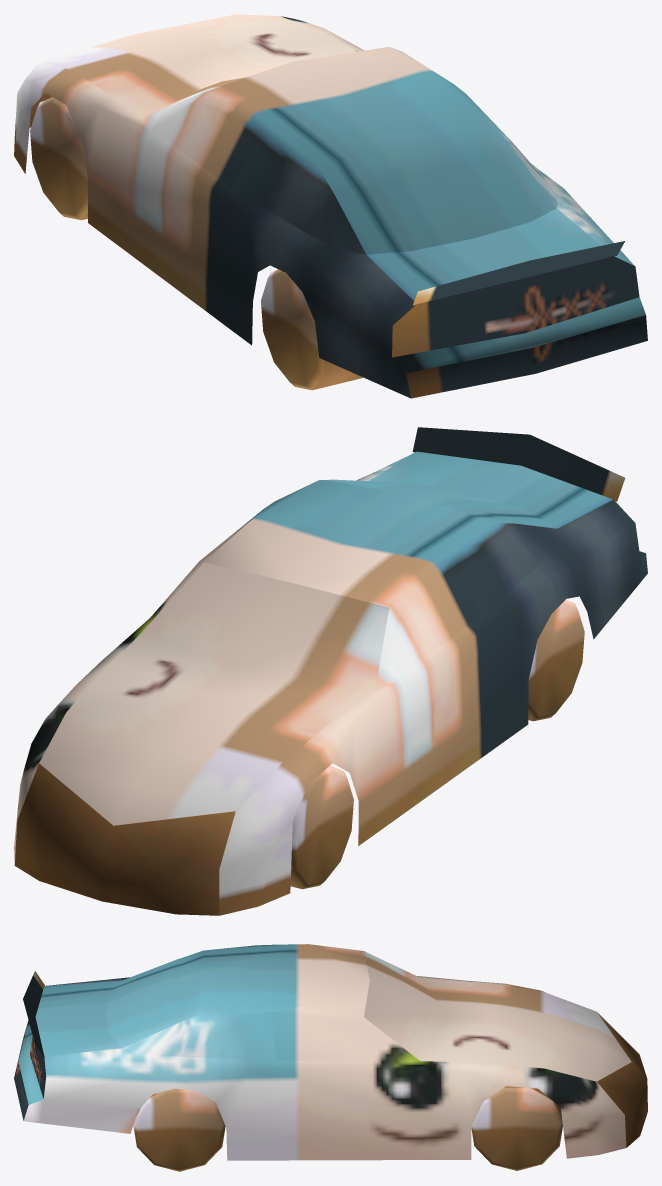
The model's file is view.ico.obj.
3 views of the same model, one above another, from view 1: azimuth 30°, elevation 25°; view 2: azimuth 150°, elevation 25°; view 3: azimuth 270°, elevation 25° (orthographic). The views are drawn at different scales.
Bounding box in the file's own units: 1.87 × 1.31 × 5.
